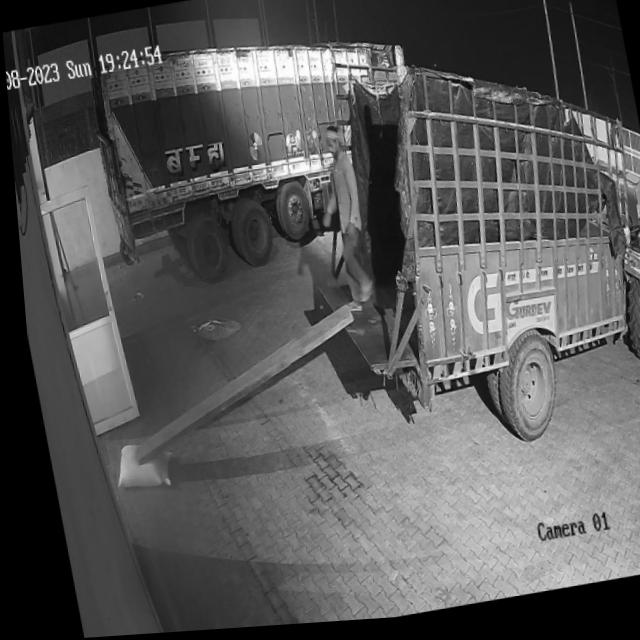sack: (102, 438, 167, 495)
